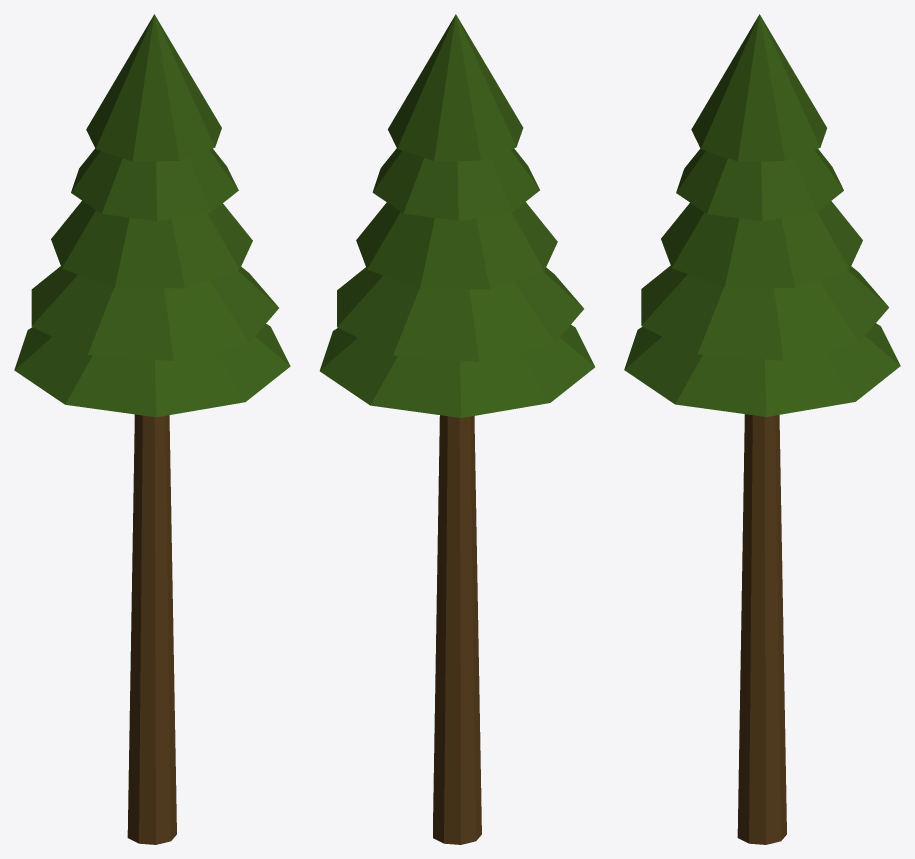
File: pinetree2.fbx
3 renders of one model, left to right at view 1: azimuth 30°, elevation 25°; view 2: azimuth 150°, elevation 25°; view 3: azimuth 270°, elevation 25°, orthographic.
Parts seen in each view (by area): view 1: Cylinder, Cylinder.002, Cylinder.001, Cylinder.003, Cylinder.005, Cylinder.004; view 2: Cylinder, Cylinder.002, Cylinder.001, Cylinder.003, Cylinder.005, Cylinder.004; view 3: Cylinder, Cylinder.002, Cylinder.001, Cylinder.003, Cylinder.005, Cylinder.004.
Part boxes in pixels (left/top/right/bottom): Cylinder: left=127, top=414, right=176, bottom=844; Cylinder.002: left=31, top=266, right=278, bottom=361; Cylinder.001: left=14, top=324, right=290, bottom=417; Cylinder.003: left=51, top=200, right=252, bottom=288; Cylinder.005: left=86, top=14, right=221, bottom=161; Cylinder.004: left=71, top=148, right=238, bottom=221; Cylinder: left=433, top=415, right=481, bottom=844; Cylinder.002: left=337, top=267, right=583, bottom=361; Cylinder.001: left=319, top=325, right=594, bottom=417; Cylinder.003: left=356, top=202, right=557, bottom=289; Cylinder.005: left=388, top=14, right=523, bottom=161; Cylinder.004: left=372, top=148, right=539, bottom=220; Cylinder: left=737, top=414, right=786, bottom=844; Cylinder.002: left=641, top=265, right=888, bottom=360; Cylinder.001: left=624, top=323, right=900, bottom=416; Cylinder.003: left=661, top=201, right=862, bottom=288; Cylinder.005: left=691, top=14, right=826, bottom=161; Cylinder.004: left=676, top=148, right=843, bottom=221.
Size of the model in its own units: 448 by 1482 by 453.
